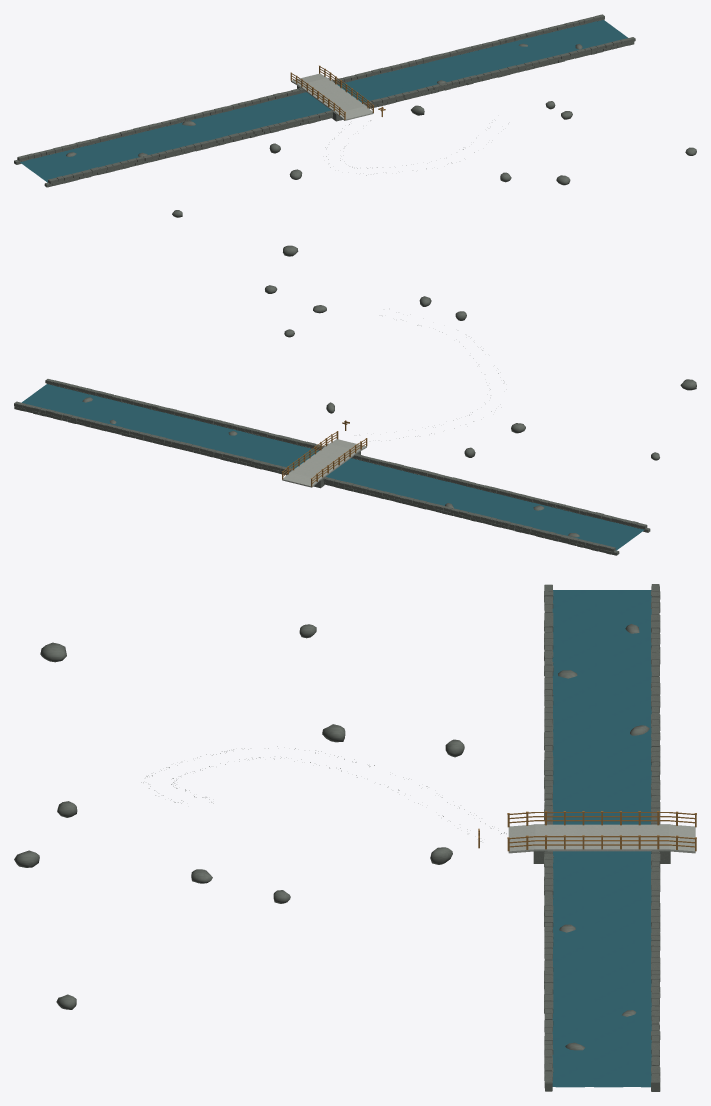
The model's file is expansion-river-bridge.glb.
3 views of the same model, one above another, from view 1: azimuth 30°, elevation 25°; view 2: azimuth 150°, elevation 25°; view 3: azimuth 270°, elevation 25° (orthographic). The views are drawn at different scales.
Visible parts, largest first — view 1: River_Water_Surface, Bridge_Deck_and_Ramps, River_Stone_Banks cell -1,2, River_and_Hill_Boulders, River_Stone_Banks cell -2,2, River_Stone_Banks cell 1,2, River_Stone_Banks cell 0,2, River_Stone_Banks cell -1,1, River_Stone_Banks cell -2,1, River_Stone_Banks cell 0,1, River_Stone_Banks cell 1,1, Bridge_Timber_Railings; view 2: River_Water_Surface, Bridge_Deck_and_Ramps, River_Stone_Banks cell -1,1, River_and_Hill_Boulders, River_Stone_Banks cell 0,1, River_Stone_Banks cell -2,1, River_Stone_Banks cell 1,1, River_Stone_Banks cell -1,2, River_Stone_Banks cell -2,2, River_Stone_Banks cell 1,2, River_Stone_Banks cell 0,2, Bridge_Timber_Railings; view 3: River_Water_Surface, Bridge_Deck_and_Ramps, River_and_Hill_Boulders, Bridge_Timber_Railings, River_Stone_Banks cell -1,1, River_Stone_Banks cell -1,2, River_Stone_Banks cell 0,1, River_Stone_Banks cell 1,2, River_Stone_Banks cell 1,1, River_Stone_Banks cell 0,2, River_Stone_Banks cell -2,2, River_Stone_Banks cell -2,1.
Part boxes in pixels (bbox=[...]): River_Water_Surface: bbox=[20, 20, 627, 182]; Bridge_Deck_and_Ramps: bbox=[291, 73, 373, 120]; River_Stone_Banks cell -1,2: bbox=[180, 110, 332, 153]; River_and_Hill_Boulders: bbox=[66, 43, 696, 256]; River_Stone_Banks cell -2,2: bbox=[44, 147, 183, 187]; River_Stone_Banks cell 1,2: bbox=[499, 37, 635, 77]; River_Stone_Banks cell 0,2: bbox=[363, 70, 503, 108]; River_Stone_Banks cell -1,1: bbox=[148, 88, 306, 129]; River_Stone_Banks cell -2,1: bbox=[14, 125, 153, 164]; River_Stone_Banks cell 0,1: bbox=[332, 46, 472, 84]; River_Stone_Banks cell 1,1: bbox=[470, 14, 604, 52]; Bridge_Timber_Railings: bbox=[290, 65, 373, 119]; River_Water_Surface: bbox=[22, 384, 644, 550]; Bridge_Deck_and_Ramps: bbox=[282, 439, 366, 487]; River_Stone_Banks cell -1,1: bbox=[323, 476, 481, 521]; River_and_Hill_Boulders: bbox=[82, 285, 696, 537]; River_Stone_Banks cell 0,1: bbox=[149, 434, 292, 475]; River_Stone_Banks cell -2,1: bbox=[476, 515, 619, 555]; River_Stone_Banks cell 1,1: bbox=[14, 401, 152, 442]; River_Stone_Banks cell -1,2: bbox=[351, 454, 511, 496]; River_Stone_Banks cell -2,2: bbox=[508, 492, 650, 532]; River_Stone_Banks cell 1,2: bbox=[45, 379, 185, 416]; River_Stone_Banks cell 0,2: bbox=[180, 412, 324, 450]; Bridge_Timber_Railings: bbox=[282, 431, 367, 486]; River_Water_Surface: bbox=[552, 590, 651, 1087]; Bridge_Deck_and_Ramps: bbox=[508, 824, 695, 853]; River_and_Hill_Boulders: bbox=[14, 624, 649, 1050]; Bridge_Timber_Railings: bbox=[507, 811, 696, 851]; River_Stone_Banks cell -1,1: bbox=[651, 695, 660, 824]; River_Stone_Banks cell -1,2: bbox=[544, 696, 553, 824]; River_Stone_Banks cell 0,1: bbox=[651, 850, 660, 970]; River_Stone_Banks cell 1,2: bbox=[544, 968, 553, 1091]; River_Stone_Banks cell 1,1: bbox=[651, 970, 660, 1091]; River_Stone_Banks cell 0,2: bbox=[544, 850, 553, 972]; River_Stone_Banks cell -2,2: bbox=[544, 584, 553, 696]; River_Stone_Banks cell -2,1: bbox=[651, 584, 660, 695].
Size of the model in its own units: 88.73 by 8.32 by 51.08.
5 materials, 3 textured.
